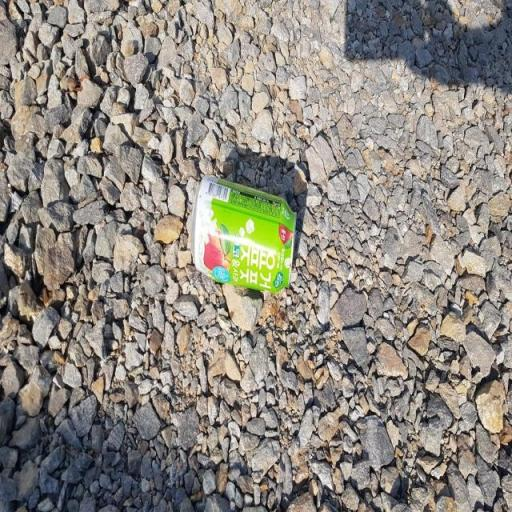metal: (180, 162, 302, 312)
